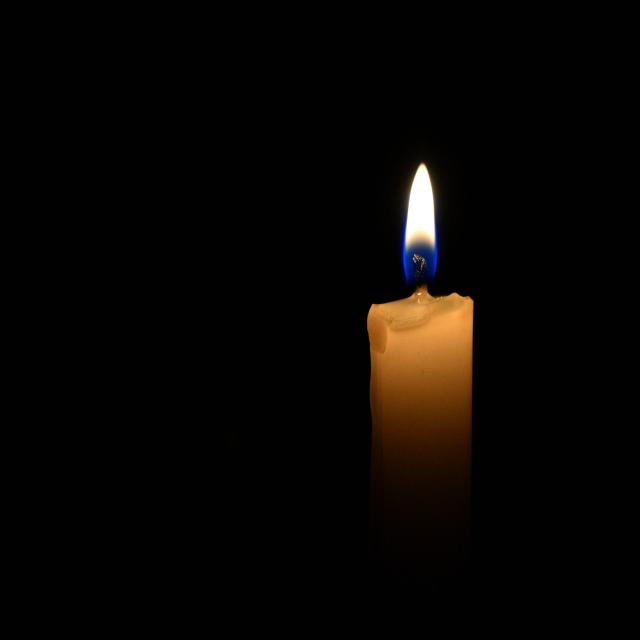Fire_Save: (366, 160, 474, 576), (402, 161, 438, 285)
